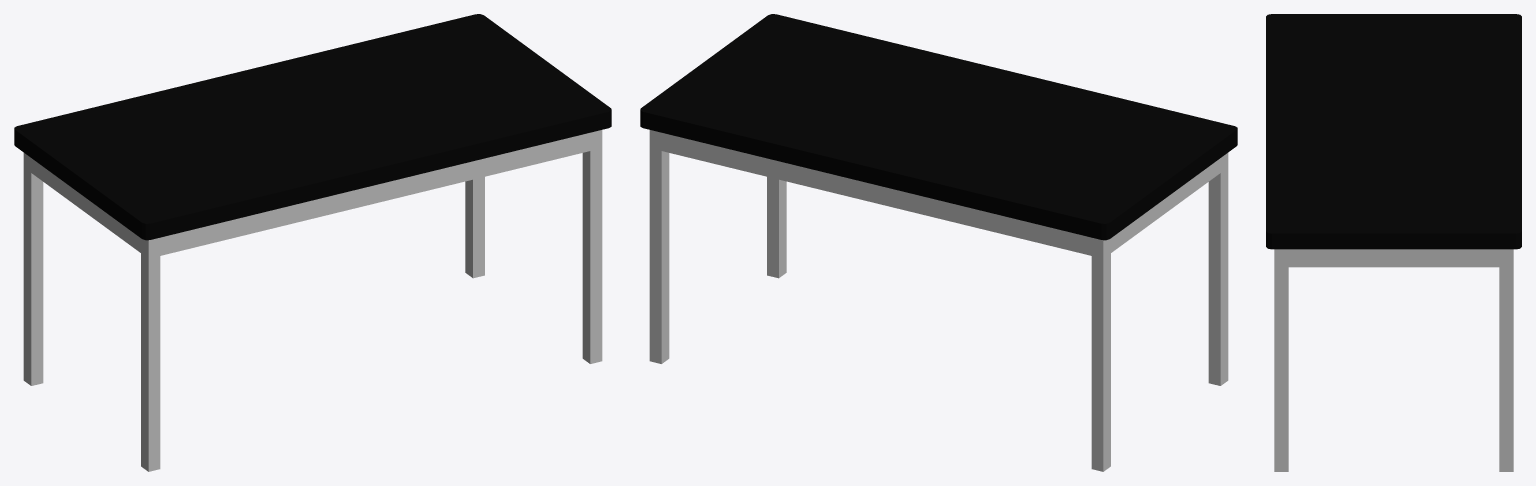
Rendered from P_Table.fbx.
The picture shows the model from 3 angles, left to right: view 1: azimuth 30°, elevation 25°; view 2: azimuth 150°, elevation 25°; view 3: azimuth 270°, elevation 25°; orthographic projection. The views are drawn at different scales.
Visible parts, largest first — view 1: P_Table; view 2: P_Table; view 3: P_Table.
Boxes of the visible parts, left/top/right/bottom form: P_Table: left=14, top=14, right=611, bottom=471; P_Table: left=640, top=14, right=1237, bottom=471; P_Table: left=1266, top=14, right=1521, bottom=471.
Size of the model in its own units: 1030 by 507 by 529.
